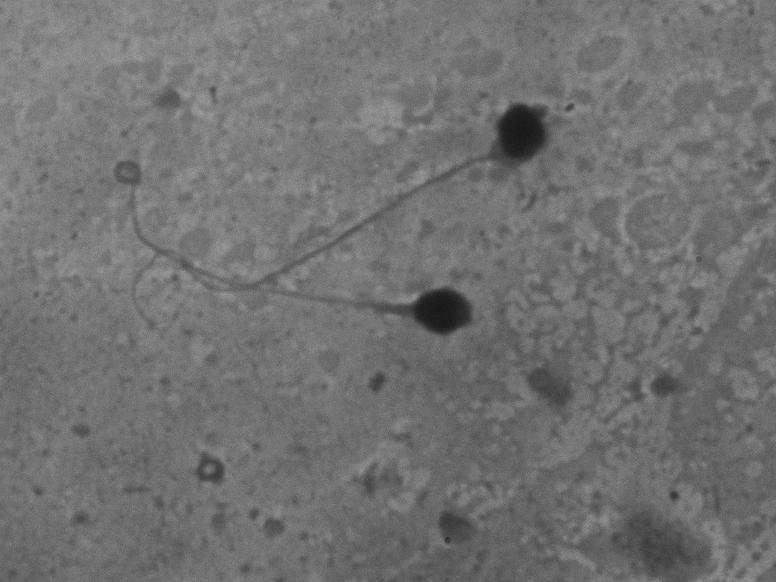Abnormal: (80, 89, 566, 308), (113, 246, 553, 365)
